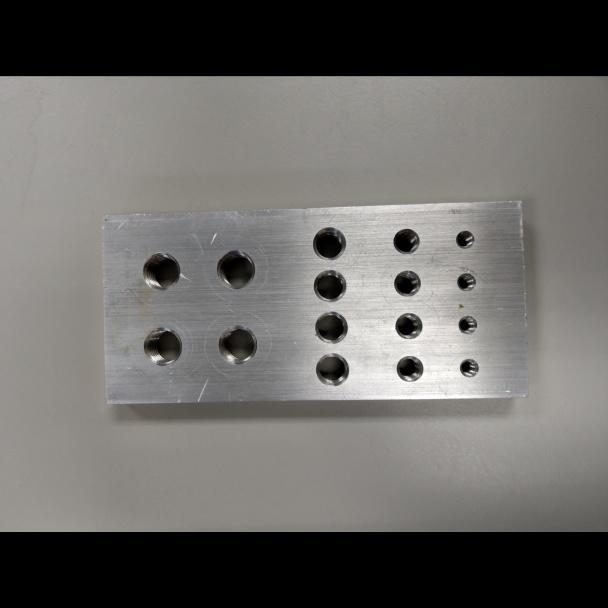hole: (216, 323, 257, 365), (142, 325, 182, 367), (215, 248, 255, 290), (141, 251, 181, 290), (311, 224, 346, 261), (314, 351, 350, 386), (314, 309, 349, 344), (312, 268, 347, 303), (394, 311, 423, 340), (392, 226, 421, 255), (395, 354, 423, 383), (392, 269, 421, 297), (458, 356, 479, 378), (455, 228, 475, 250), (457, 314, 478, 334), (456, 271, 476, 291)
